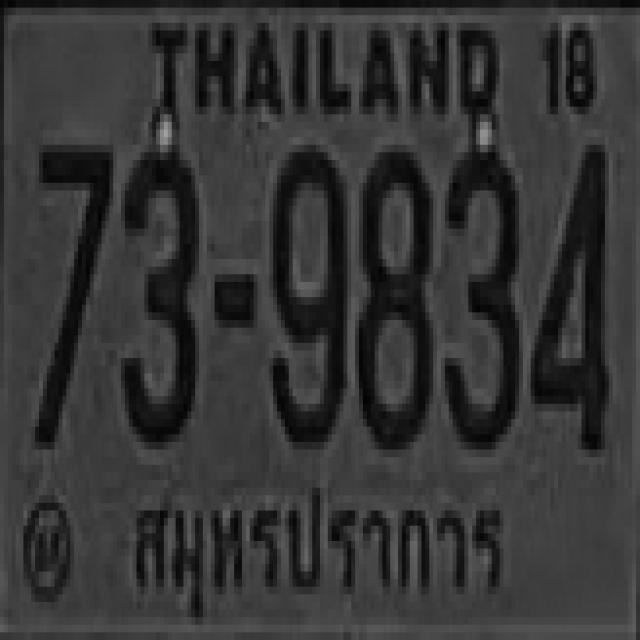3: (117, 145, 195, 442), (441, 145, 515, 442)
4: (531, 137, 605, 450)
7: (35, 137, 109, 442)
8: (355, 145, 429, 442)
9: (270, 137, 344, 442)
SamutPrakan: (118, 472, 515, 613)
